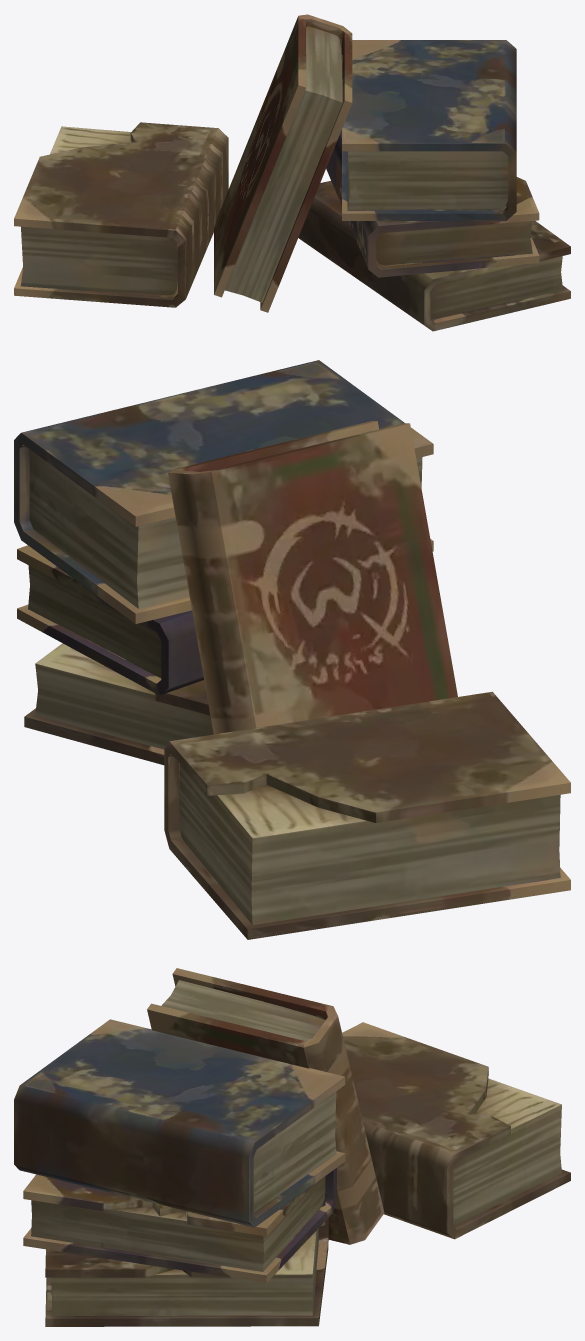
3 renders of one model, top to bottom at view 1: azimuth 30°, elevation 25°; view 2: azimuth 150°, elevation 25°; view 3: azimuth 270°, elevation 25°, orthographic. The views are drawn at different scales.
Visible parts, largest first — view 1: SM_DR_BookStack_01_LOD0; view 2: SM_DR_BookStack_01_LOD0; view 3: SM_DR_BookStack_01_LOD0.
Part boxes in pixels (box(x1,y1,x2,y2)): SM_DR_BookStack_01_LOD0: box(14, 14, 570, 331); SM_DR_BookStack_01_LOD0: box(14, 360, 570, 939); SM_DR_BookStack_01_LOD0: box(14, 968, 570, 1326).
Bounding box in the file's own units: 0.808 × 0.39 × 0.7848.
Materials: 1 (1 with a texture image).
